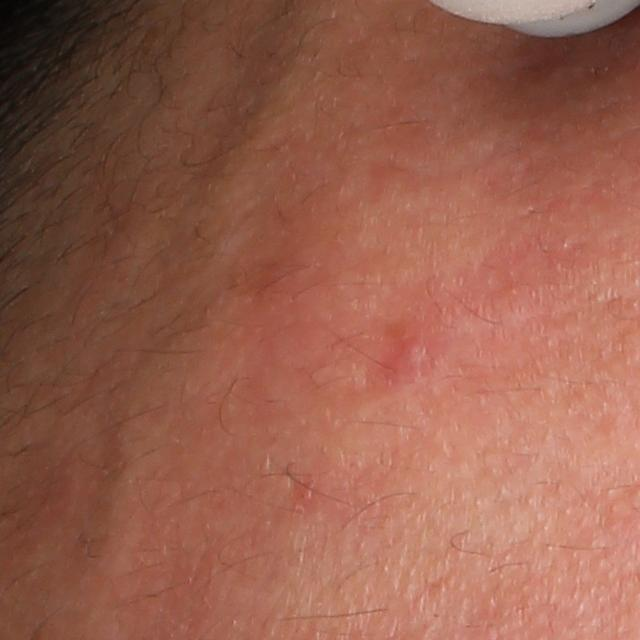papule: (394, 324, 436, 377)
